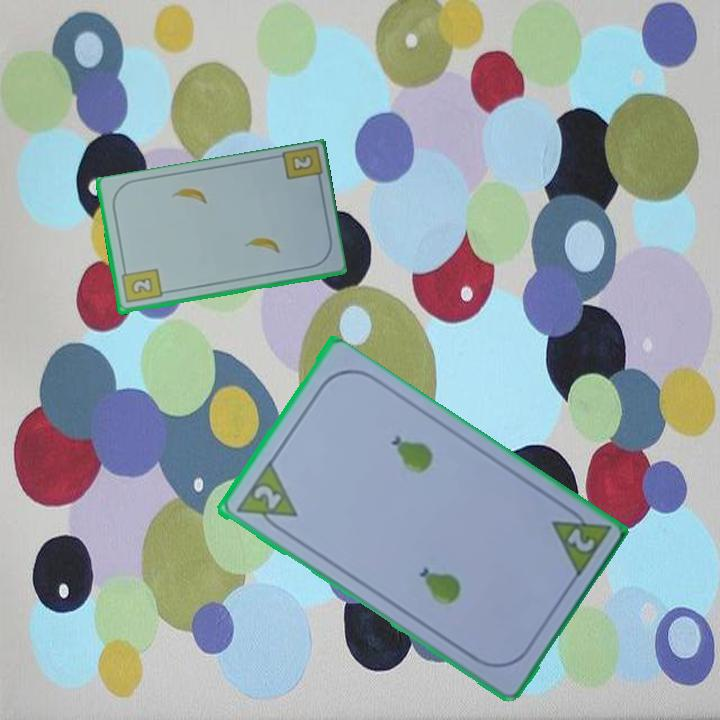2b: (118, 264, 164, 306), (287, 152, 314, 174)
2p: (546, 500, 612, 582), (231, 459, 300, 537)
